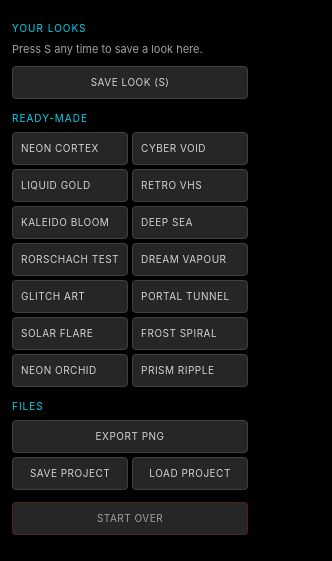
Test: SectionPresets saved looks › shows an empty state, then numbered looks after saving
Check: the text "Press S any time to save a look here." is shown, box [12,42,203,56]
Click the button "SAVE LOOK (S)" at x=130, y=82, box [12,66,248,99]
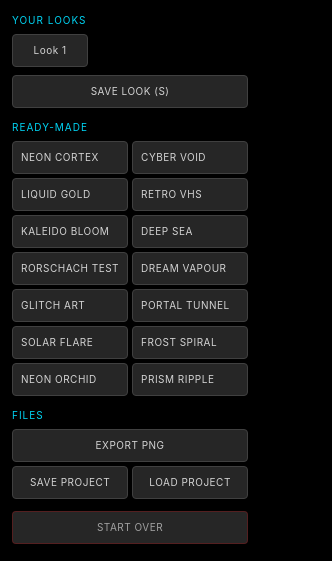
Click the button "SAVE LOOK (S)" at x=130, y=91, box [12,74,248,108]
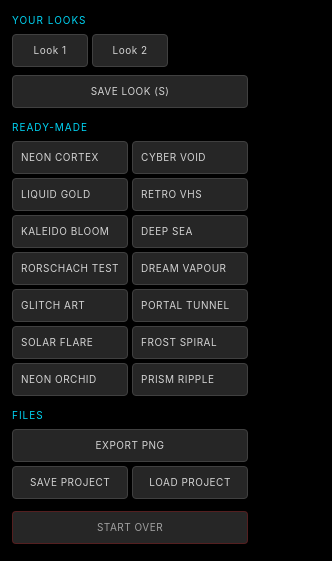
Check: the text "Press S any time to save a look here." is not shown
Check: the button "Look 1" is shown, box [12,34,88,66]
Check: the button "Look 2" is shown, box [92,34,168,66]
